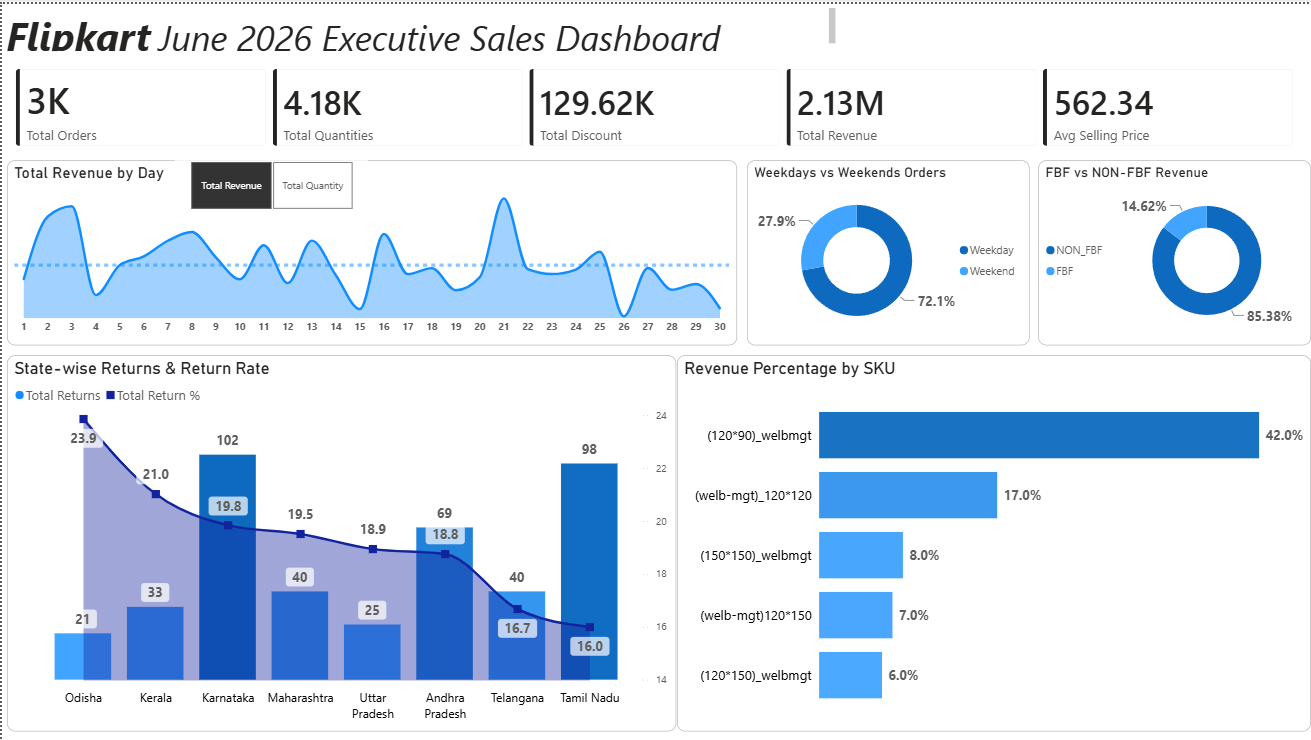

What the dashboard file says about the page in this screenshot:
{"tool":"powerbi","page":{"name":"Executive Overview","canvas":[1600,900],"ordinal":0},"visuals":[{"type":"textbox","box":[0,0,1024.1,62.7],"z":0},{"type":"cardVisual","fields":{"Data":["Sum(vw_KPI_Summary.total_orders)","Sum(vw_KPI_Summary.total_quantities)","Sum(vw_KPI_Summary.total_discount)","Sum(vw_KPI_Summary.total_revenue)","Sum(vw_KPI_Summary.avg_selling_price)"]},"box":[0,62.7,1600.4,128.4],"z":1000},{"type":"areaChart","fields":{"Y":["FlipkartSales.Total_Revenu_view"],"Category":["vw_daily_sales_trend.order_date.Variation.Date Hierarchy.Day"]},"box":[6.1,191.1,892.7,226.2],"z":2000},{"type":"slicer","fields":{"Values":["Sales_Parameter.Sales_Parameter"]},"box":[210.9,191.1,236.9,61.1],"z":3000},{"type":"barChart","title":"Revenue Percentage by SKU","fields":{"Category":["vw_revenue_contribution.SKU"],"Y":["Sum(vw_revenue_contribution.revenue_percentage)"]},"box":[825.4,429.5,775,460.1],"z":4000},{"type":"lineStackedColumnComboChart","title":"State-wise Returns & Return Rate","fields":{"Category":["vw_State_wise_return.state"],"Y":["Sum(vw_State_wise_return.total_returns)"],"Y2":["Sum(vw_State_wise_return.return_percentage)"]},"box":[5.4,429.2,818.8,459.9],"z":5000},{"type":"donutChart","title":"Weekdays vs Weekends Orders","fields":{"Category":["vw_weedayVSweekend.Day Type"],"Y":["Sum(vw_weedayVSweekend.total_orders)"]},"box":[911,191.1,345.5,226.2],"z":6000},{"type":"donutChart","title":"FBF vs NON-FBF Revenue","fields":{"Category":["vw_FBF_non_FBF.Fulfilment Type"],"Y":["Sum(vw_FBF_non_FBF.total_revenue)"]},"box":[1267.2,191.1,333.2,226.2],"z":7000}]}

Visuals, with their boxes in screenshot pixels (x1, y1, x2, y2), scaled from the page's 1600x900 canvas onto the 1311x740 screenshot:
textbox: [x1=0, y1=0, x2=839, y2=52]
cardVisual - Sum(vw_KPI_Summary.total_orders) x Sum(vw_KPI_Summary.total_quantities): [x1=0, y1=52, x2=1310, y2=157]
areaChart - FlipkartSales.Total_Revenu_view x vw_daily_sales_trend.order_date.Variation.Date Hierarchy.Day: [x1=5, y1=157, x2=736, y2=343]
slicer - Sales_Parameter.Sales_Parameter: [x1=173, y1=157, x2=367, y2=207]
"Revenue Percentage by SKU" barChart: [x1=676, y1=353, x2=1310, y2=731]
"State-wise Returns & Return Rate" lineStackedColumnComboChart: [x1=4, y1=353, x2=675, y2=731]
"Weekdays vs Weekends Orders" donutChart: [x1=746, y1=157, x2=1030, y2=343]
"FBF vs NON-FBF Revenue" donutChart: [x1=1038, y1=157, x2=1310, y2=343]
